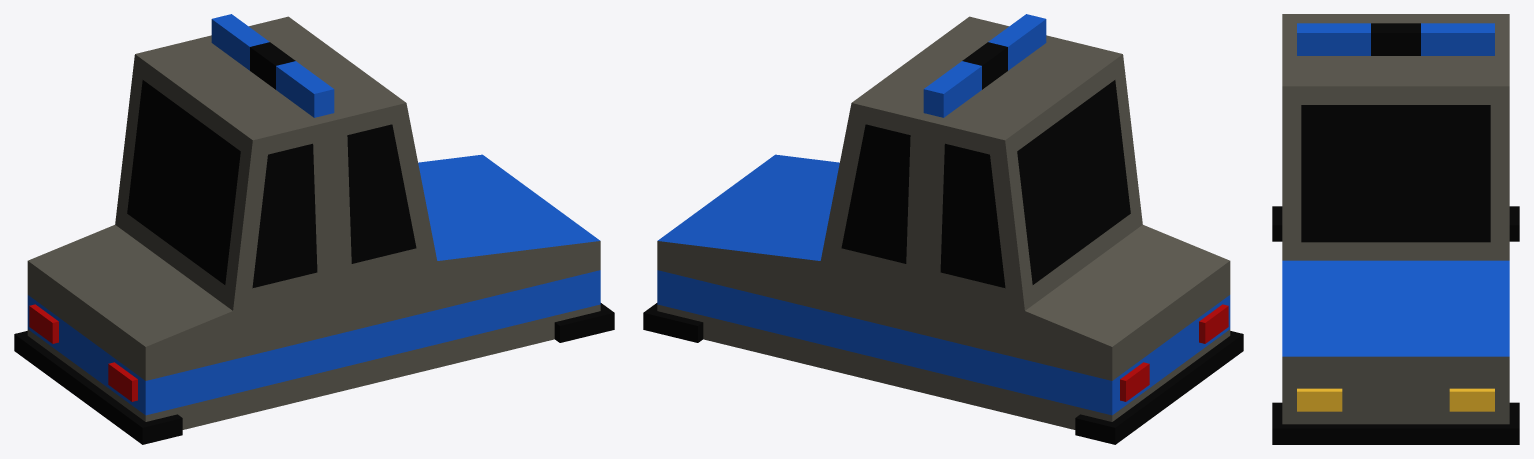
The model's file is CityCar_Police_02.fbx.
The picture shows the model from 3 angles, left to right: view 1: azimuth 30°, elevation 25°; view 2: azimuth 150°, elevation 25°; view 3: azimuth 270°, elevation 25°; orthographic projection. The views are drawn at different scales.
Visible parts, largest first — view 1: CityCar_Police_02; view 2: CityCar_Police_02; view 3: CityCar_Police_02.
Boxes of the visible parts, left/top/right/bottom form: CityCar_Police_02: left=14, top=14, right=614, bottom=444; CityCar_Police_02: left=643, top=14, right=1243, bottom=444; CityCar_Police_02: left=1272, top=14, right=1519, bottom=444.
Size of the model in its own units: 0.4902 by 0.2943 by 0.2307.
